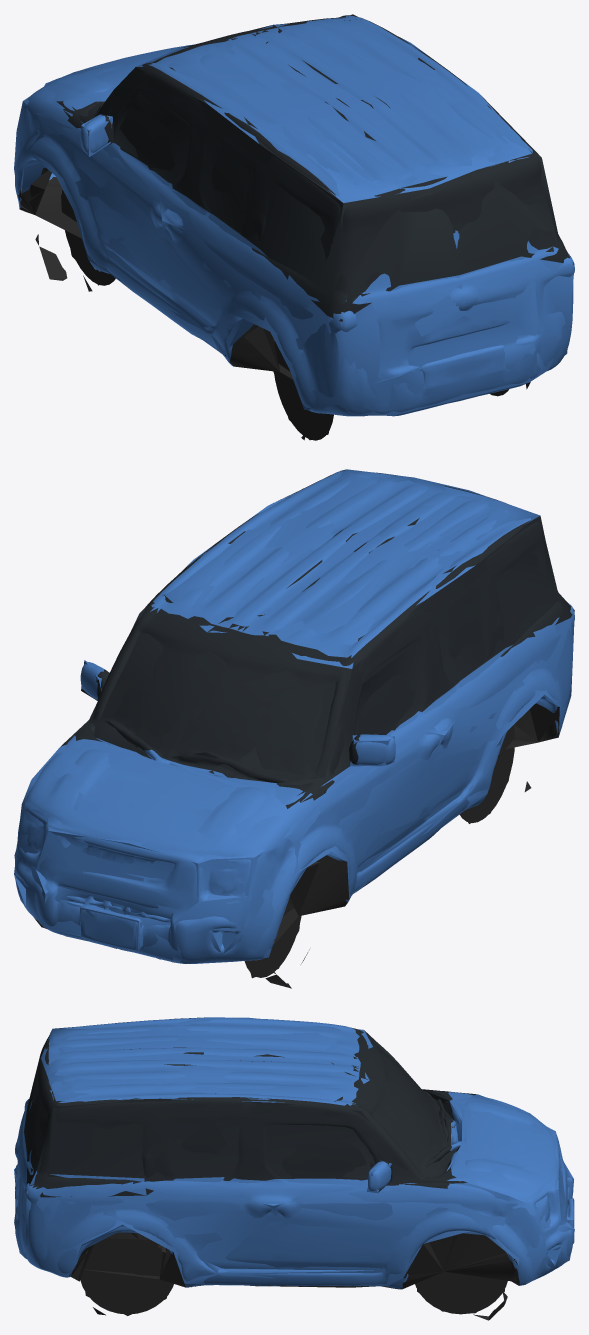
File: honda-element.glb
3 renders of one model, top to bottom at view 1: azimuth 30°, elevation 25°; view 2: azimuth 150°, elevation 25°; view 3: azimuth 270°, elevation 25°, orthographic. The views are drawn at different scales.
Parts seen in each view (by area): view 1: body, far; view 2: body, far; view 3: body, far.
Boxes of the visible parts, left/top/right/bottom form: body: left=15, top=15, right=574, bottom=440; far: left=14, top=14, right=574, bottom=440; body: left=15, top=470, right=574, bottom=988; far: left=14, top=469, right=574, bottom=978; body: left=15, top=1017, right=574, bottom=1320; far: left=14, top=1017, right=574, bottom=1315.
Size of the model in its own units: 2.2 by 1.94 by 4.35.
